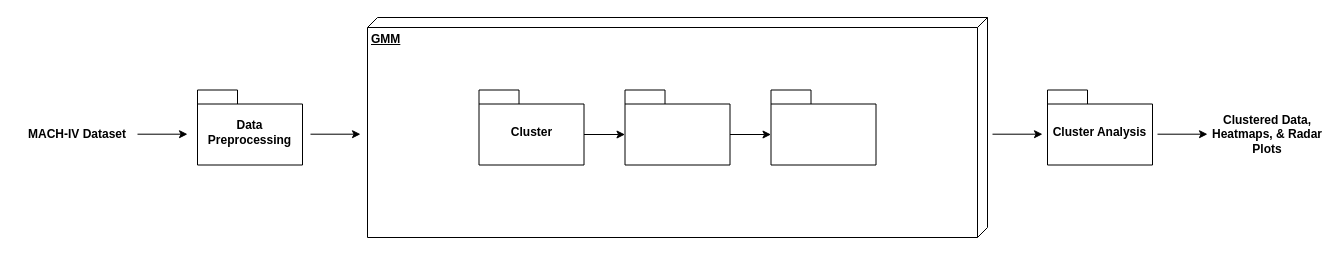
The diagram is 1344 pixels wide and 255 high, and some of its shapes have lost their labels. The shapes that lost their labels are listed below. From the top down, each one's box as (x1, y1, x2, y2) in pixels, then its label:
(624, 89, 730, 165): Label & Score
(770, 89, 876, 165): Generate Plots & CSVs
